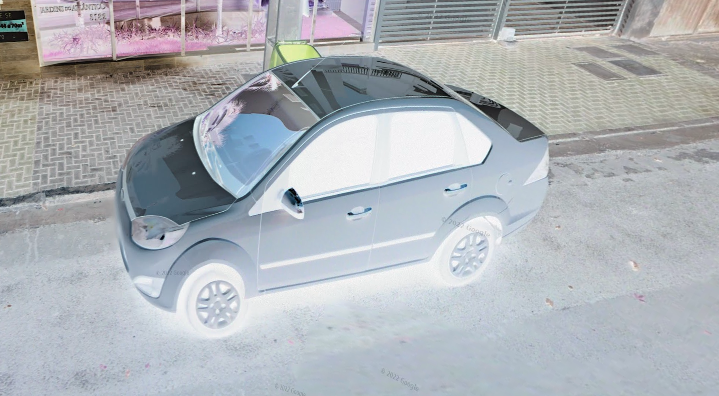car: (111, 37, 557, 344)
